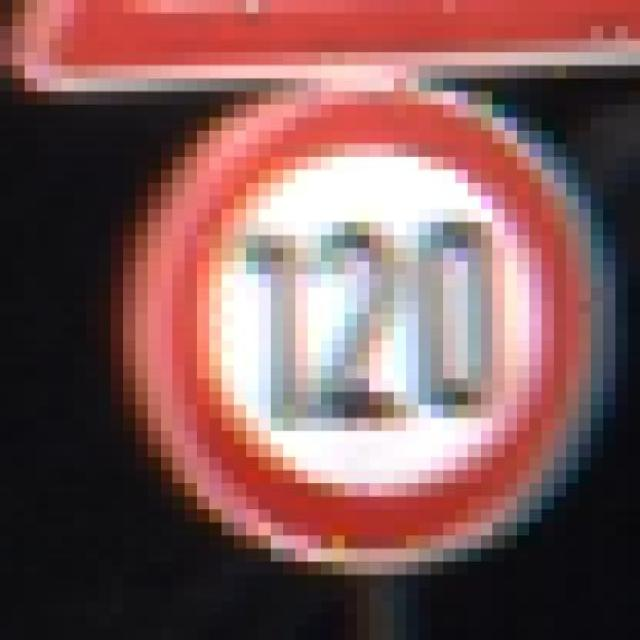forb_speed_over_120: (168, 96, 589, 556)
